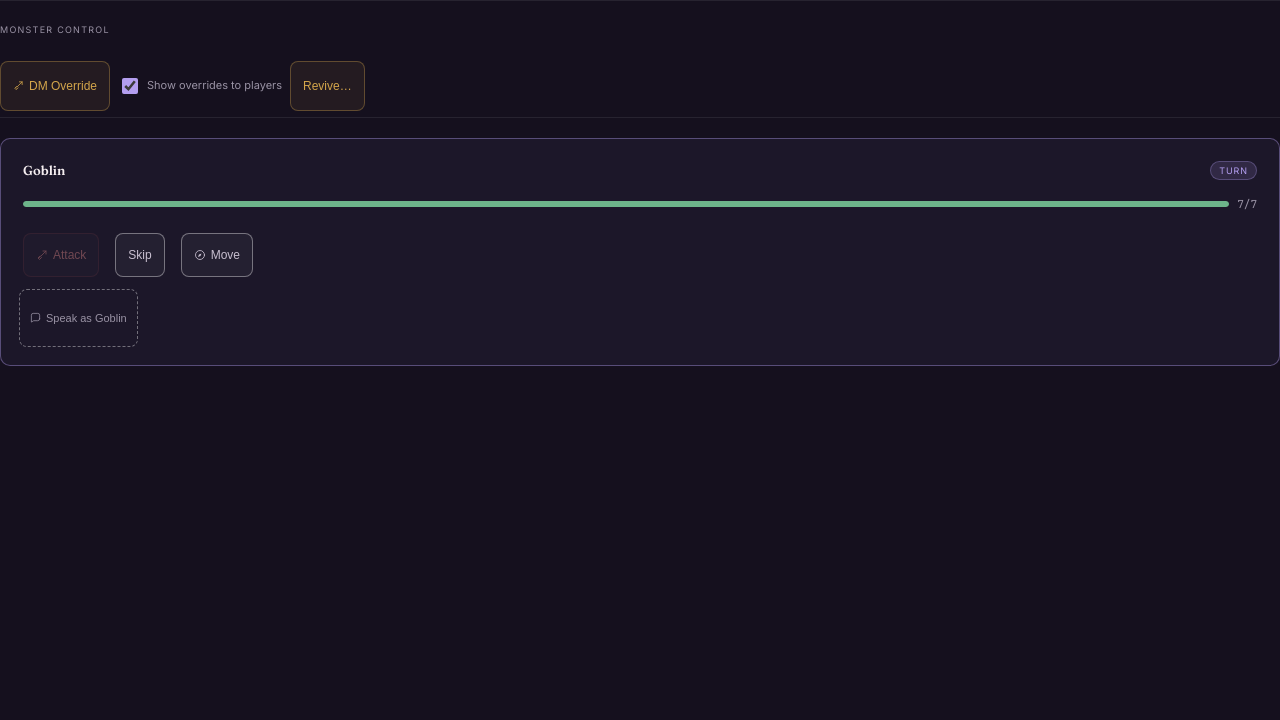
Scenario: Revive… opener › DM Override still opens on Attack, even after a Revive… open
Click the button "Revive…": [327, 86] box [290,60,365,110]
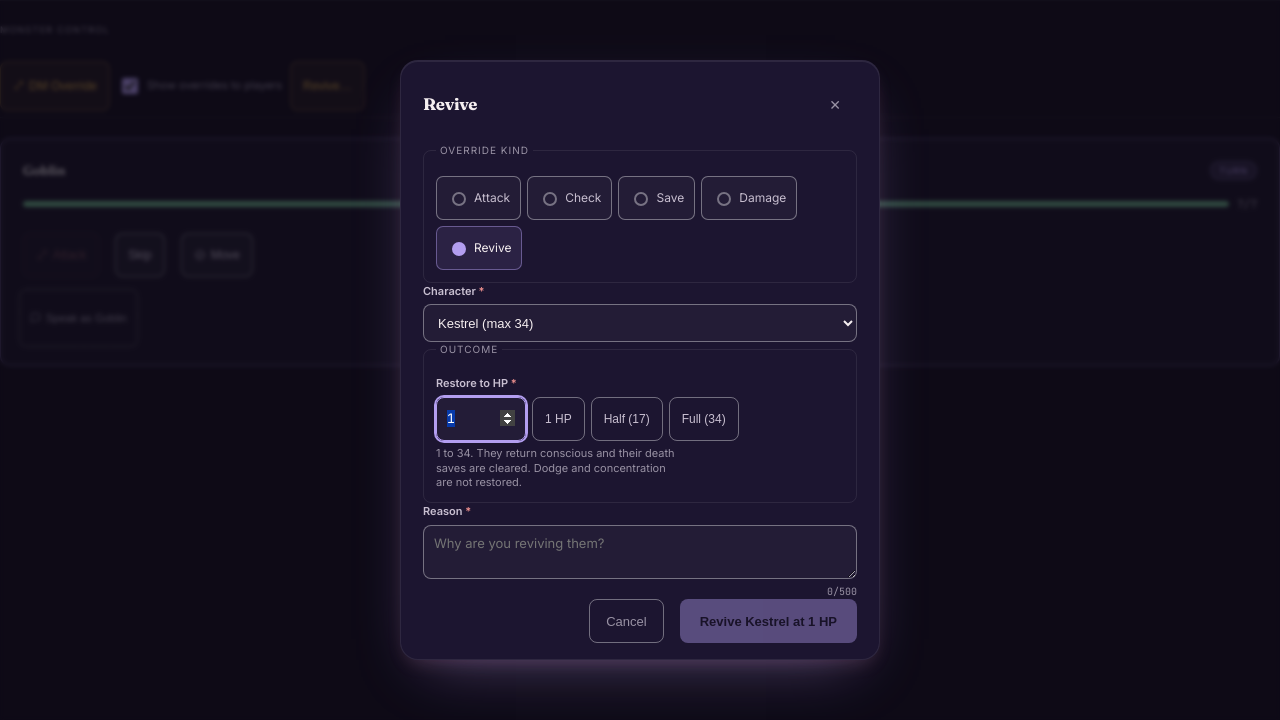
Click the button named "Close override modal": [835, 105] box [813,83,857,127]
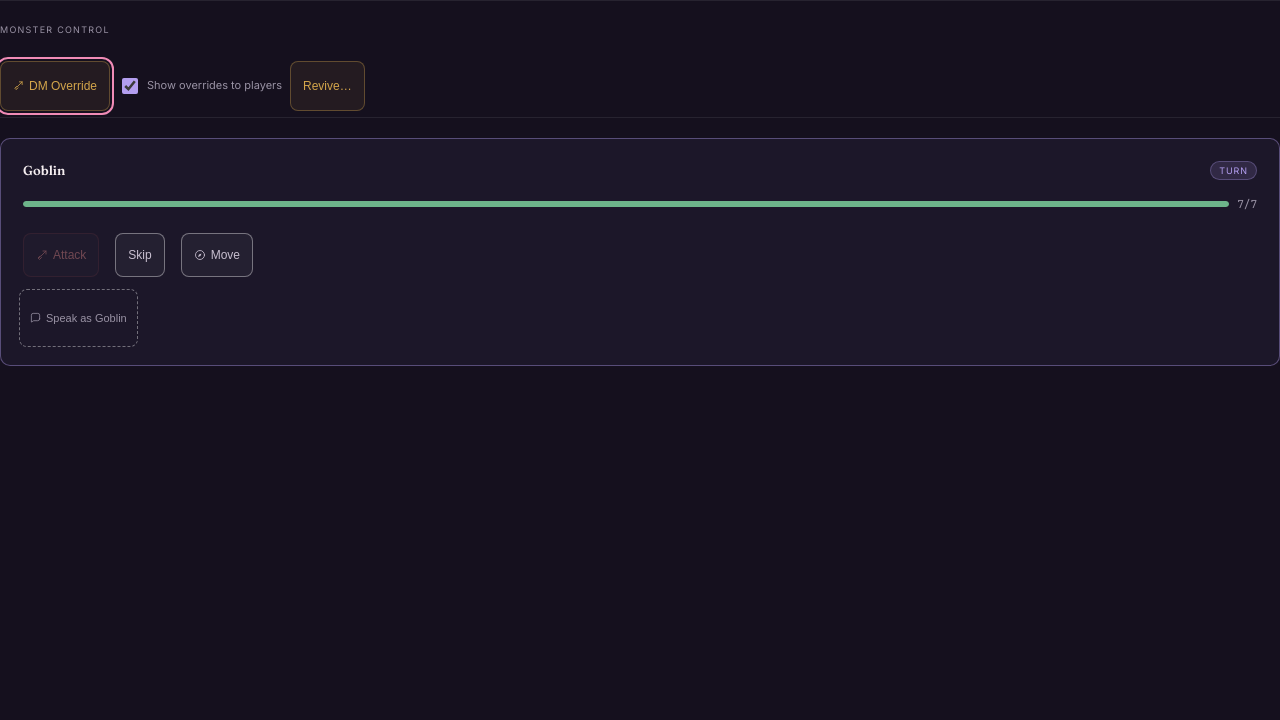
Click the button with aria-label "Open DM override modal": [55, 86] box [0,60,110,110]
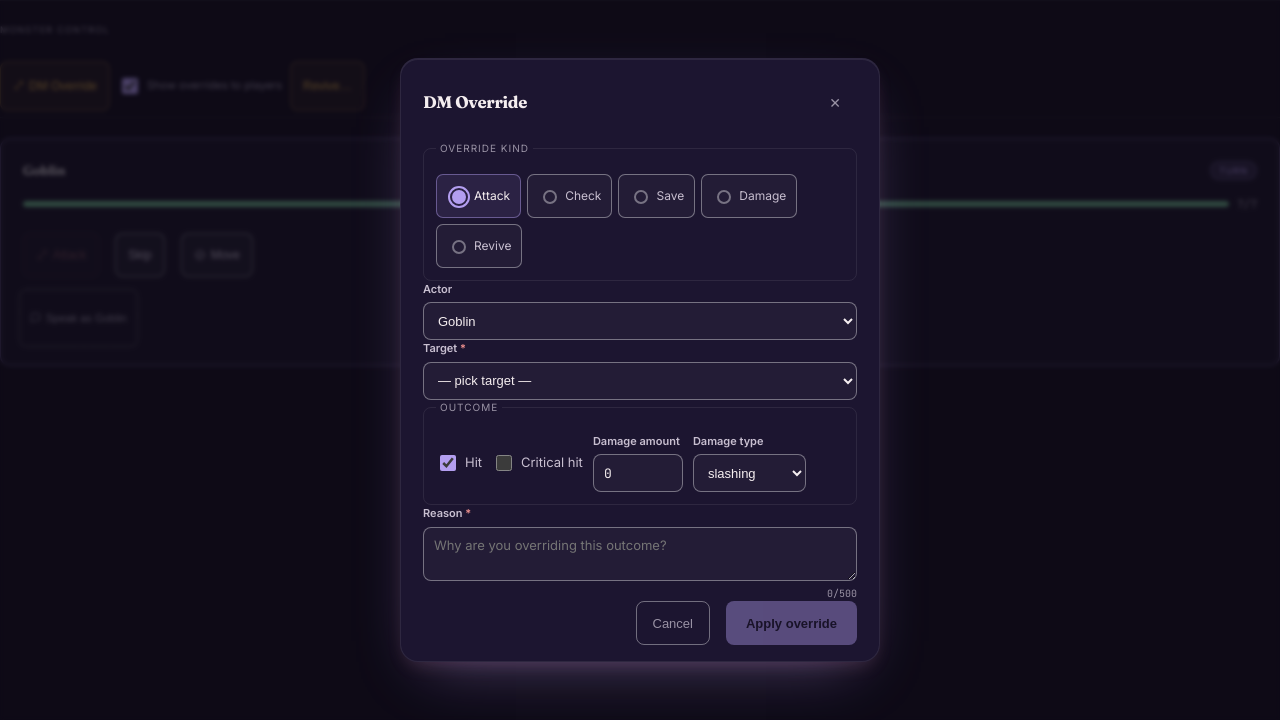
Now the radio button labelled "Attack" is checked, box [452,190,466,204]
